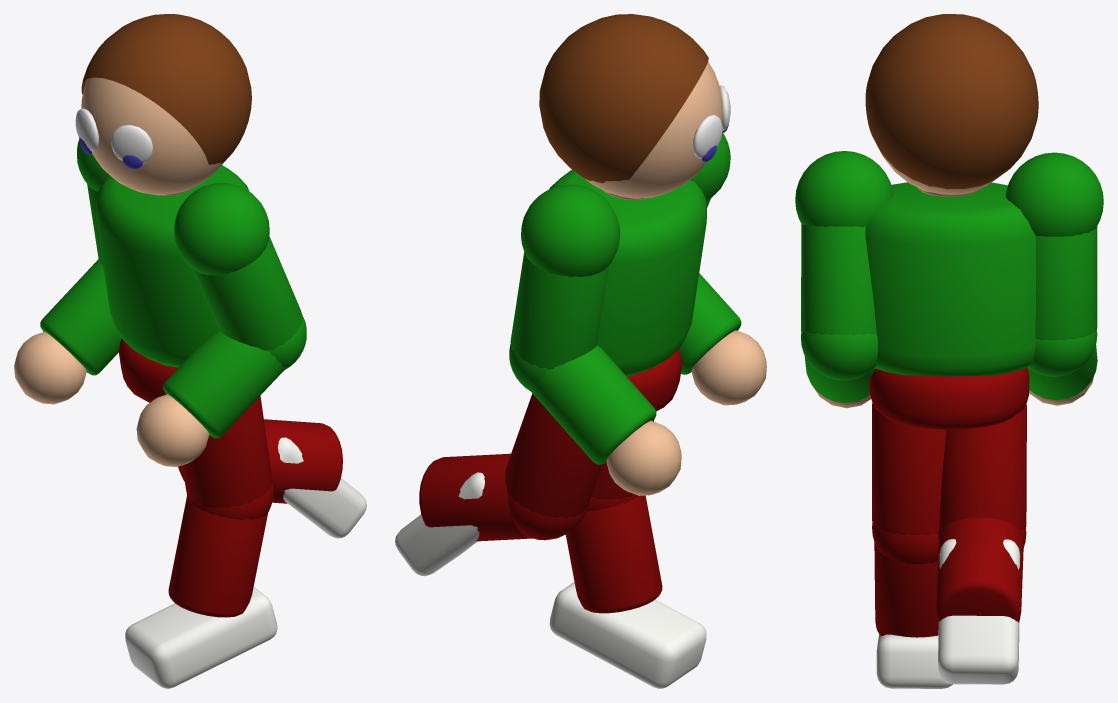
3 views of the same model, side by side, from view 1: azimuth 30°, elevation 25°; view 2: azimuth 150°, elevation 25°; view 3: azimuth 270°, elevation 25° (orthographic). The views are drawn at different scales.
Visible parts, largest first — view 1: torso, hair, shoe_n, head, shin_n, farm_n, shoulder_ball_n, uarm_n, thigh_n, farm_f, shin_f, hand_n (+8 smaller); view 2: hair, torso, shoe_n, shin_n, farm_f, uarm_f, shoulder_ball_f, thigh_f, shin_f, head, hand_f, hand_n (+8 smaller); view 3: torso, hair, thigh_f, pelvis, thigh_n, shin_f, uarm_n, uarm_f, shoulder_ball_f, shoe_f, shoulder_ball_n, shin_n (+7 smaller).
Part boxes in pixels (x1=…): torso: x1=95, y1=165, x2=249, y2=367; hair: x1=81, y1=14, x2=251, y2=164; shoe_n: x1=125, y1=587, x2=277, y2=688; head: x1=81, y1=77, x2=223, y2=194; shin_n: x1=168, y1=497, x2=267, y2=617; farm_n: x1=163, y1=331, x2=284, y2=438; shoulder_ball_n: x1=174, y1=182, x2=269, y2=275; uarm_n: x1=193, y1=236, x2=302, y2=350; thigh_n: x1=182, y1=395, x2=272, y2=507; farm_f: x1=40, y1=259, x2=121, y2=375; shin_f: x1=264, y1=419, x2=342, y2=503; hand_n: x1=136, y1=394, x2=209, y2=466; hair: x1=539, y1=14, x2=708, y2=183; torso: x1=549, y1=170, x2=706, y2=376; shoe_n: x1=549, y1=582, x2=706, y2=688; shin_n: x1=566, y1=495, x2=662, y2=613; farm_f: x1=530, y1=345, x2=656, y2=464; uarm_f: x1=510, y1=252, x2=608, y2=369; shoulder_ball_f: x1=521, y1=184, x2=620, y2=277; thigh_f: x1=505, y1=393, x2=602, y2=518; shin_f: x1=419, y1=453, x2=532, y2=541; head: x1=586, y1=62, x2=722, y2=198; hand_f: x1=606, y1=420, x2=681, y2=495; hand_n: x1=691, y1=330, x2=766, y2=405; torso: x1=865, y1=182, x2=1035, y2=376; hair: x1=865, y1=14, x2=1038, y2=189; thigh_f: x1=939, y1=404, x2=1026, y2=529; pelvis: x1=869, y1=367, x2=1029, y2=429; thigh_n: x1=872, y1=403, x2=946, y2=535; shin_f: x1=936, y1=517, x2=1023, y2=622; uarm_n: x1=801, y1=224, x2=876, y2=334; uarm_f: x1=1035, y1=226, x2=1097, y2=340; shoulder_ball_f: x1=1005, y1=152, x2=1103, y2=236; shoe_f: x1=938, y1=539, x2=1020, y2=684; shoulder_ball_n: x1=795, y1=151, x2=893, y2=226; shin_n: x1=874, y1=542, x2=938, y2=637.
Size of the model in its own units: 0.7027 by 1.45 by 0.6155.
